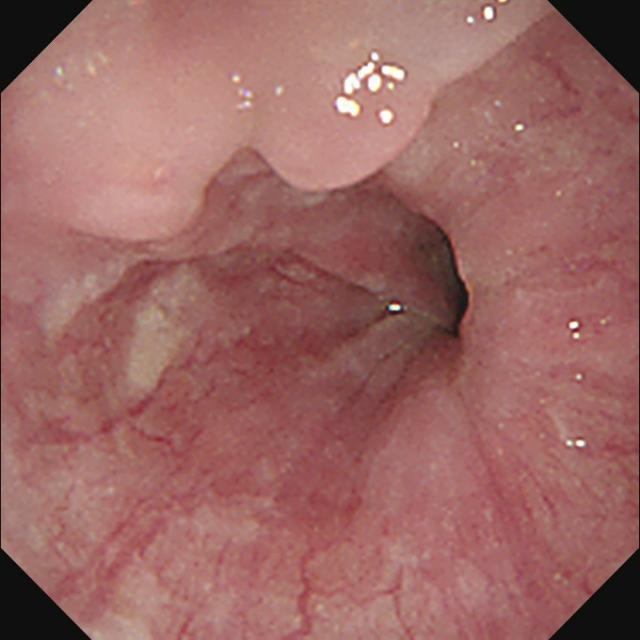A: (49, 496, 171, 623), (254, 130, 421, 199), (82, 180, 211, 252), (27, 402, 176, 452), (528, 56, 586, 127), (335, 237, 398, 281)
E: (435, 227, 475, 341)
J: (125, 266, 239, 400), (29, 272, 121, 354)
U: (335, 49, 408, 127)
